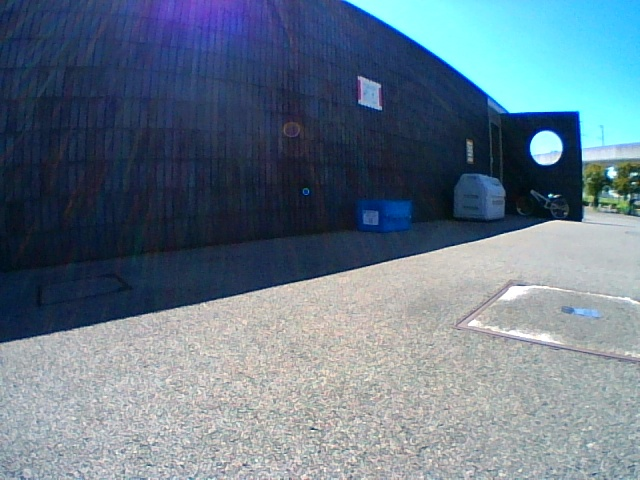blue_box: (358, 200, 410, 232)
tag: (363, 211, 378, 224)
